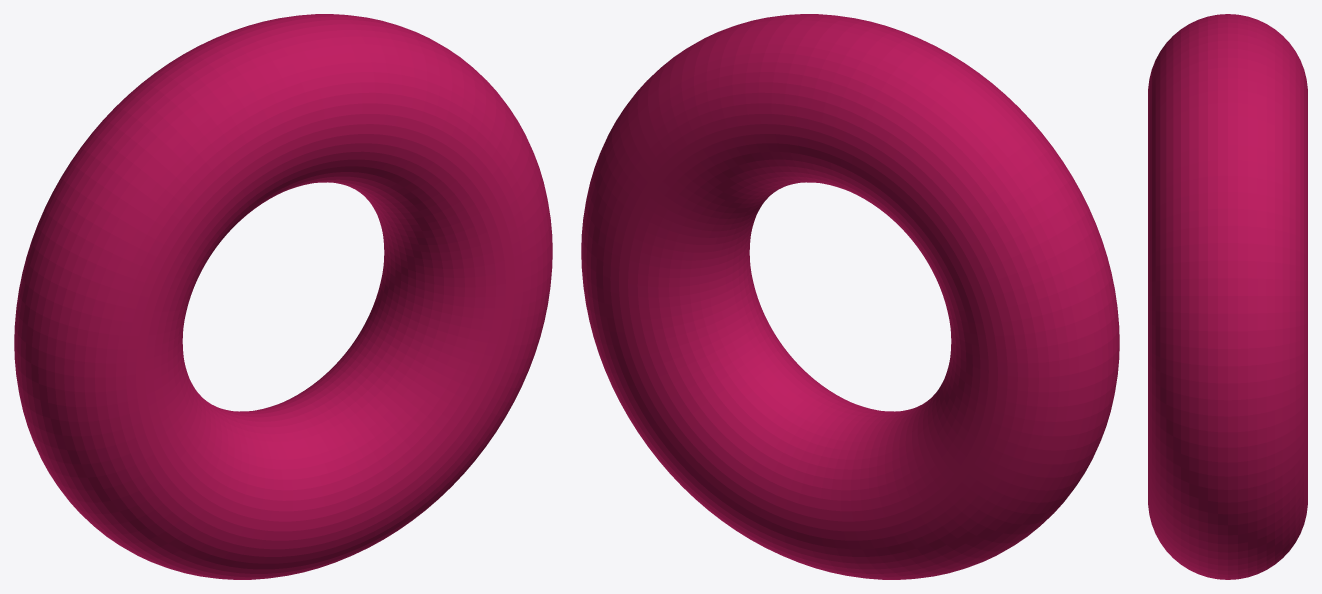
The picture shows the model from 3 angles, left to right: view 1: azimuth 30°, elevation 25°; view 2: azimuth 150°, elevation 25°; view 3: azimuth 270°, elevation 25°; orthographic projection. The views are drawn at different scales.
Visible parts, largest first — view 1: world; view 2: world; view 3: world.
Part boxes in pixels (left/top/right/bottom): world: left=14, top=14, right=552, bottom=579; world: left=581, top=14, right=1119, bottom=579; world: left=1148, top=14, right=1307, bottom=579.
Size of the model in its own units: 33.47 by 33.47 by 9.45.
